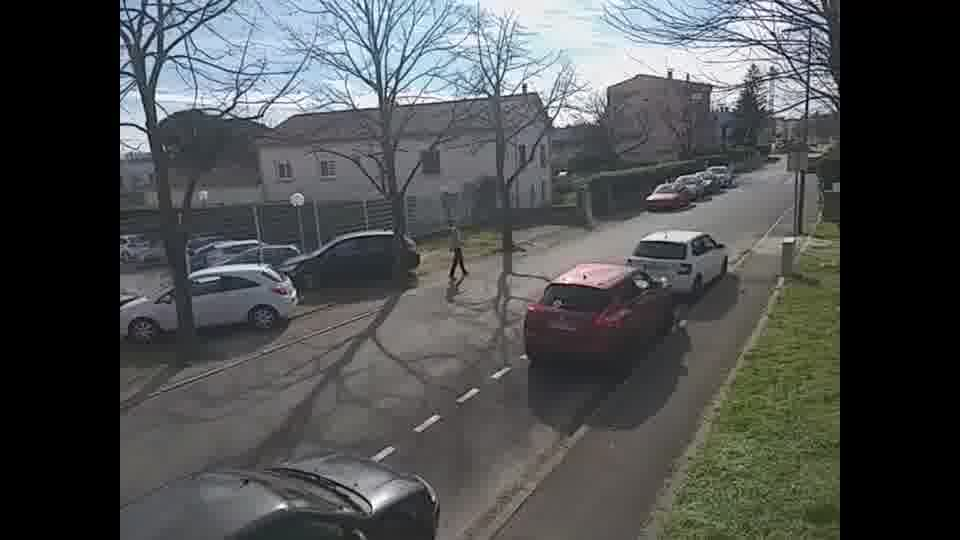jugador: (442, 209, 473, 286)
